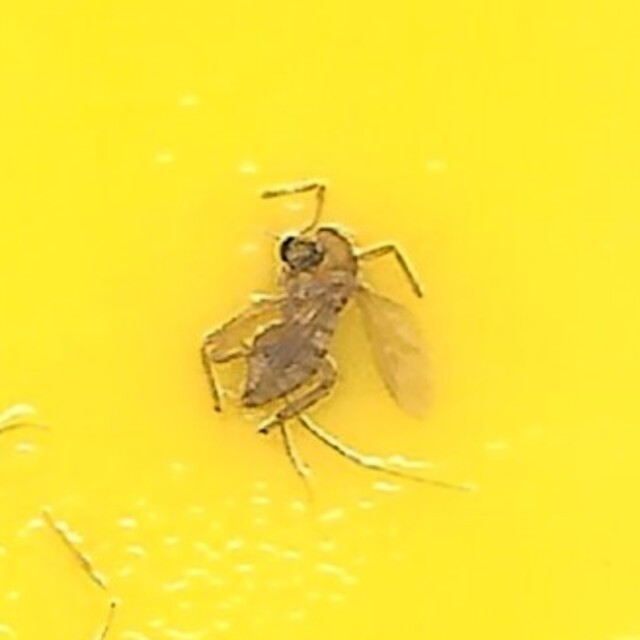Nematocera: (195, 180, 445, 460)
